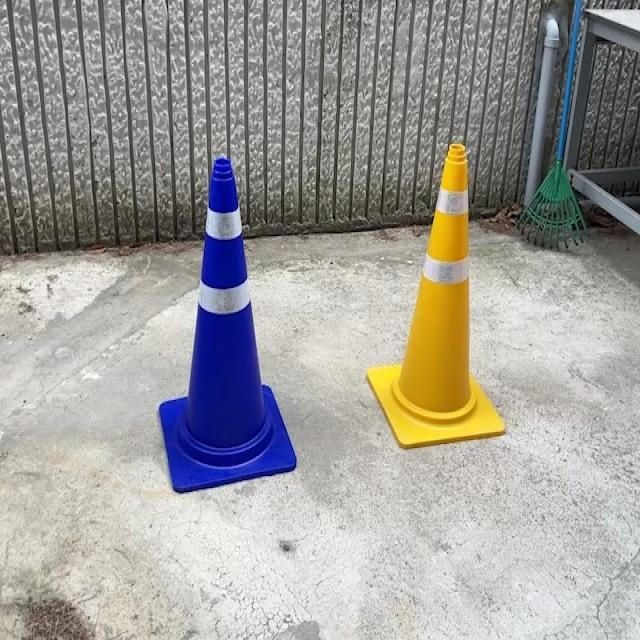b_rub: (159, 156, 297, 493)
y_rub: (368, 143, 506, 448)
